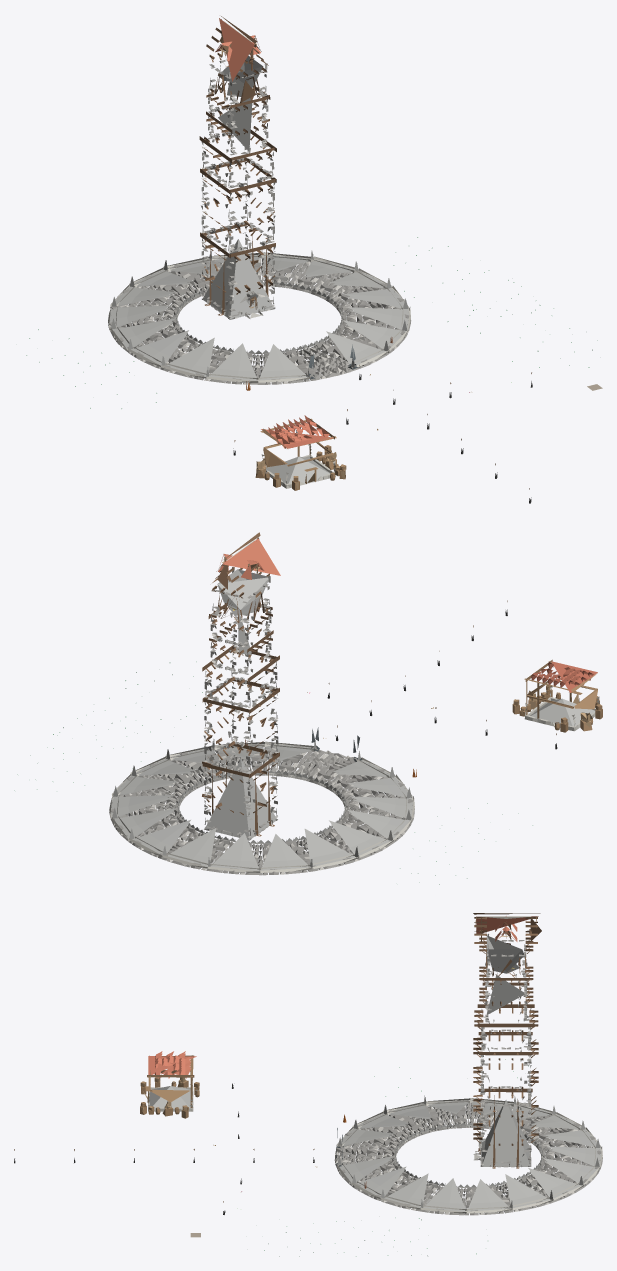
The model's file is chunk_1_2_lod2.glb.
3 views of the same model, one above another, from view 1: azimuth 30°, elevation 25°; view 2: azimuth 150°, elevation 25°; view 3: azimuth 270°, elevation 25° (orthographic). The views are drawn at different scales.
Parts seen in each view (by area): view 1: Batched_chunk_1_2_lod2; view 2: Batched_chunk_1_2_lod2; view 3: Batched_chunk_1_2_lod2.
Part boxes in pixels (x1,y1,x2,y2): Batched_chunk_1_2_lod2: (26,16,602,503); Batched_chunk_1_2_lod2: (14,532,602,884); Batched_chunk_1_2_lod2: (14,913,602,1256).
Size of the model in its own units: 88.66 by 51.57 by 112.
24 materials, 3 textured.
